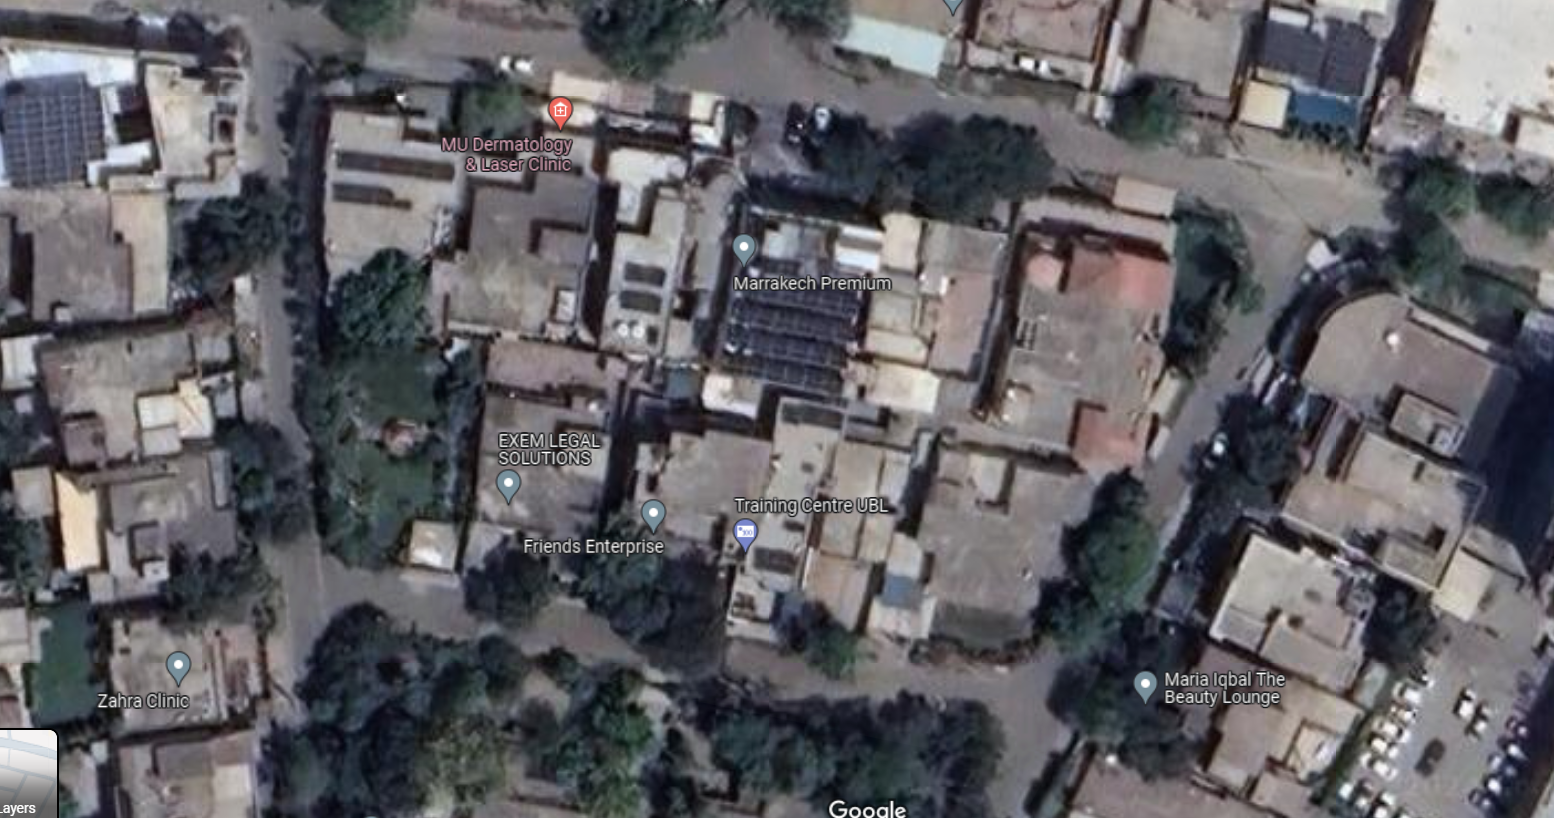solar-panel: (734, 274, 877, 389), (4, 99, 102, 179), (337, 149, 454, 176), (333, 179, 427, 211), (621, 262, 673, 308)
